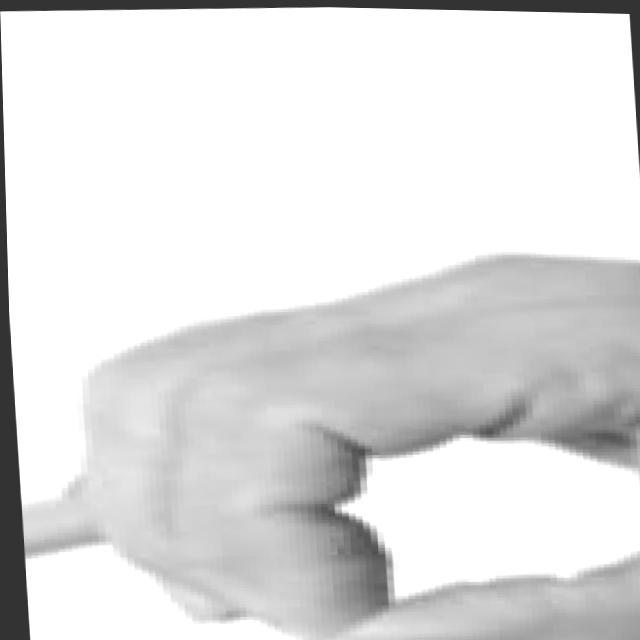O: (38, 227, 640, 640)
